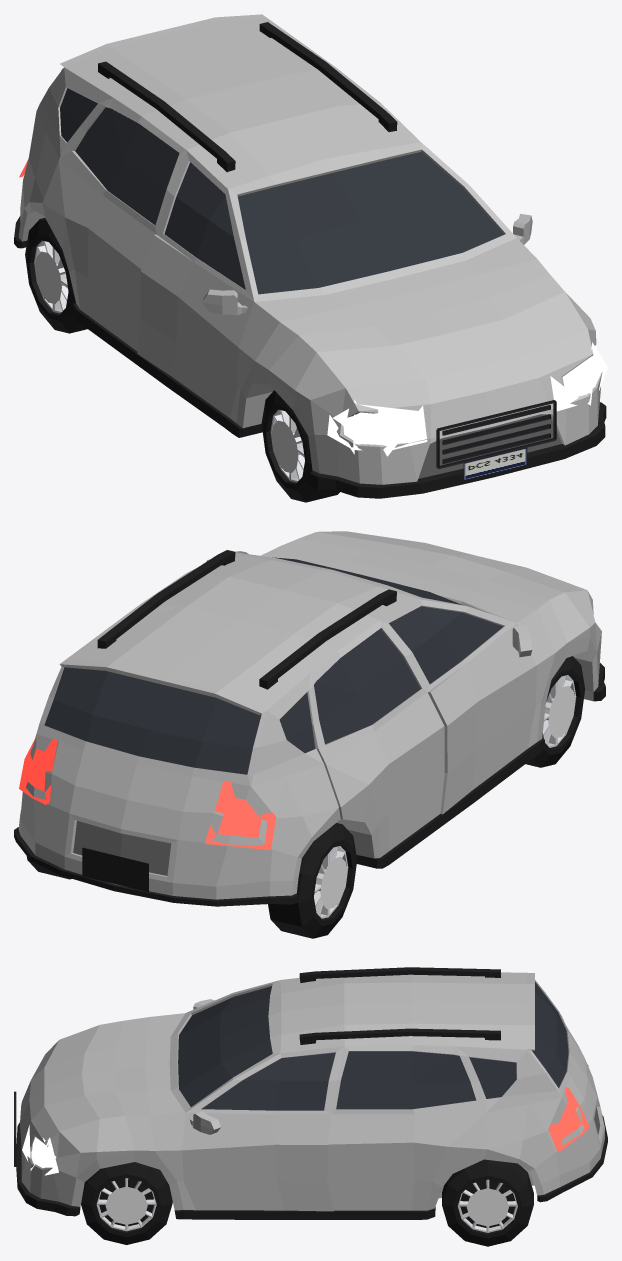
File: suv.glb
3 views of the same model, one above another, from view 1: azimuth 30°, elevation 25°; view 2: azimuth 150°, elevation 25°; view 3: azimuth 270°, elevation 25° (orthographic). The views are drawn at different scales.
Parts seen in each view (by area): view 1: body, hood, door_FR, door_RR, bumper_front, grille, headlight_R (×2), wheel_FR, wheel_RR, hubcap (×2), headlight_L (×2), plate; view 2: body, door_FR, door_RR, hood, bumper_rear, wheel_RR, wheel_FR, taillight_R, hubcap (×2), plate, taillight_L; view 3: body, door_FL, door_RL, hood, wheel_RL, wheel_FL, bumper_front, hubcap (×2), bumper_rear, taillight_L, headlight_L.
Boxes of the visible parts, x1,y1,x2,y2 form: body: (14, 14, 605, 487); hood: (254, 238, 595, 434); door_FR: (135, 150, 254, 437); door_RR: (59, 108, 188, 363); bumper_front: (317, 372, 606, 498); grille: (436, 400, 556, 468); headlight_R (×2): (327, 400, 427, 456); wheel_FR: (261, 390, 339, 502); wheel_RR: (25, 218, 87, 333); hubcap (×2): (34, 251, 298, 472); headlight_L (×2): (550, 342, 607, 411); plate: (463, 448, 527, 480); body: (14, 550, 605, 904); door_FR: (380, 599, 543, 825); door_RR: (316, 620, 444, 868); hood: (261, 531, 595, 652); bumper_rear: (16, 792, 270, 906); wheel_RR: (268, 823, 357, 938); wheel_FR: (526, 656, 584, 767); taillight_R: (205, 780, 275, 850); hubcap (×2): (320, 686, 575, 909); plate: (82, 847, 148, 892); taillight_L: (19, 736, 57, 804); body: (22, 967, 599, 1219); door_FL: (175, 1042, 343, 1219); door_RL: (324, 1046, 482, 1219); hood: (29, 1013, 185, 1160); wheel_RL: (442, 1159, 533, 1246); wheel_FL: (81, 1162, 172, 1244); bumper_front: (16, 1100, 75, 1215); hubcap (×2): (105, 1186, 508, 1226); bumper_rear: (555, 1084, 607, 1192); taillight_L: (548, 1087, 589, 1151); headlight_L: (22, 1125, 58, 1175).
Size of the model in its own units: 2.18 by 1.58 by 4.36.
12 materials, 1 textured.
